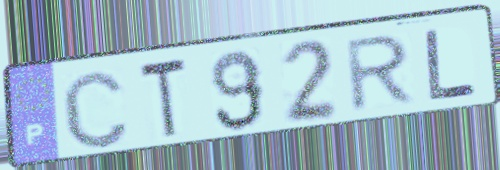2: (278, 37, 341, 128)
9: (208, 48, 267, 135)
C: (58, 67, 133, 152)
L: (421, 26, 481, 104)
R: (345, 30, 419, 116)
T: (136, 53, 191, 144)
